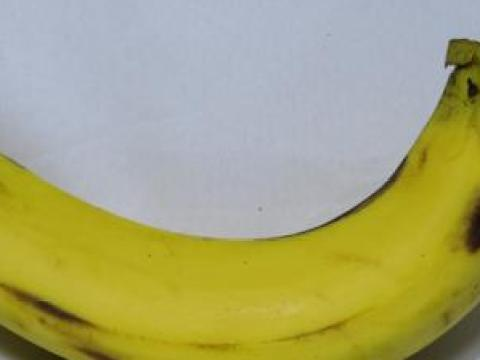freshripe: (0, 19, 479, 359)
